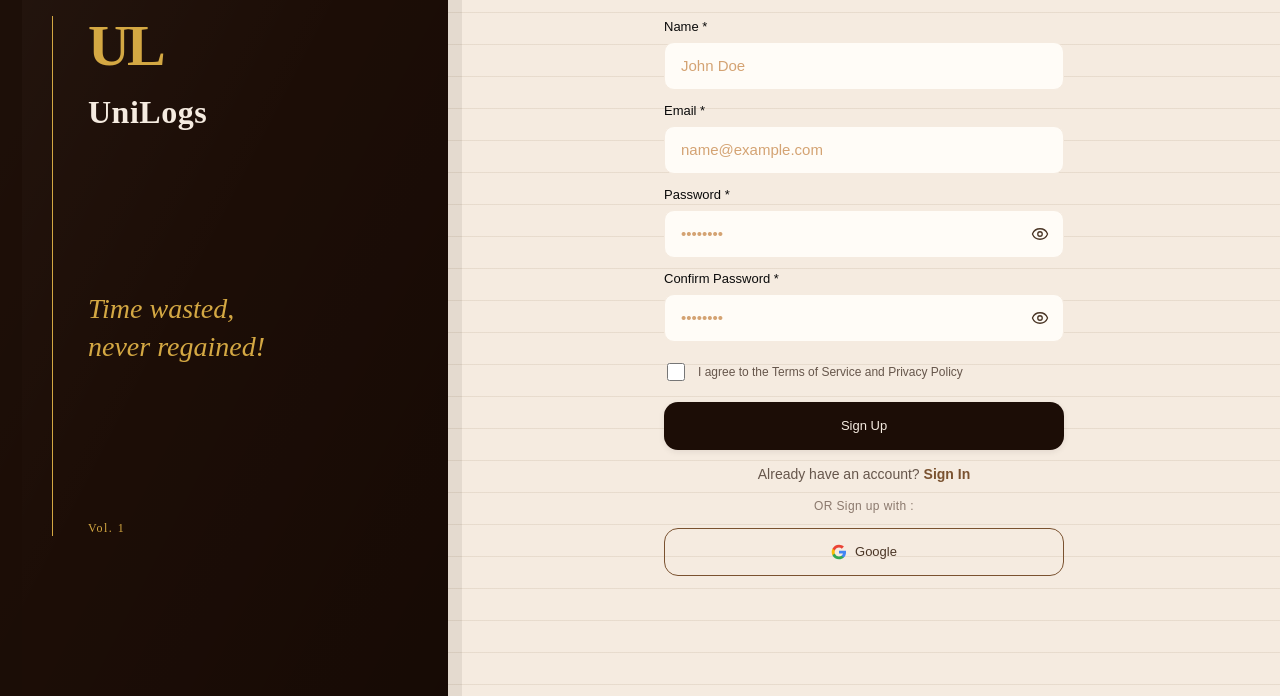
Test: SignupPage Google sign-up › shows an error if starting the OAuth flow fails
The width and height of the screenshot is (1280, 696).
(page scrolled)
Click the button "Google" at (864, 552), box x1=664 y1=528 x2=1064 y2=576
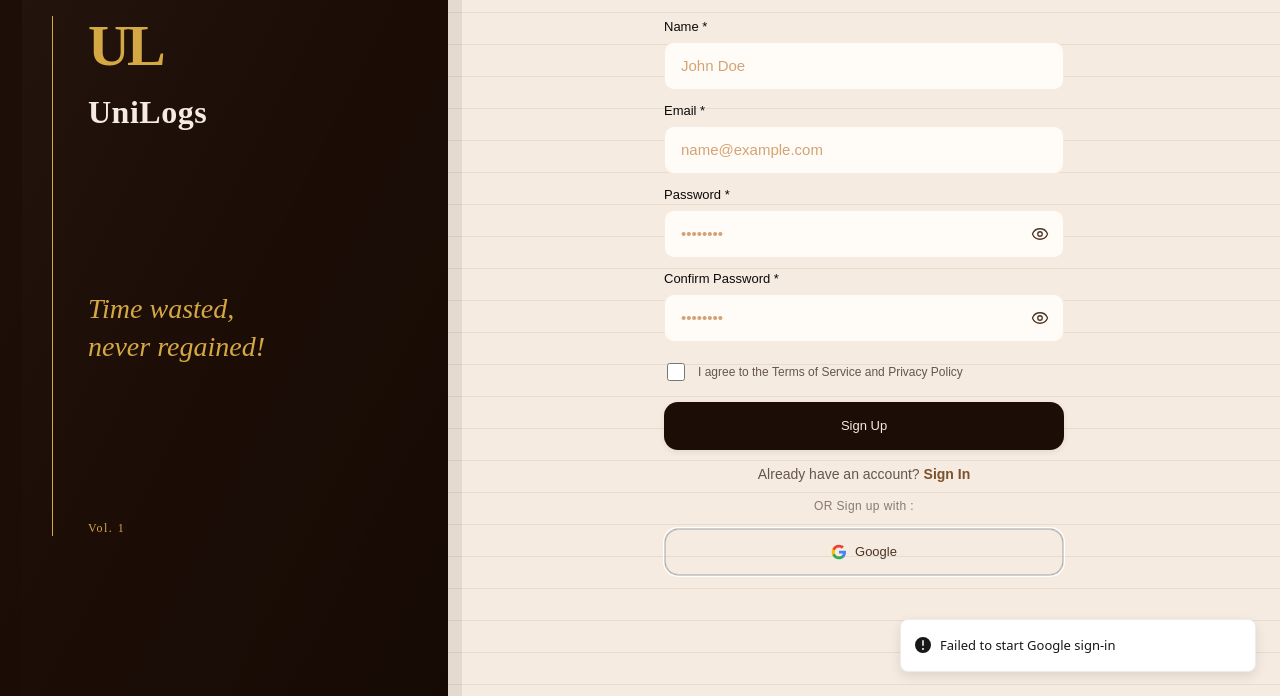
Now the text "Failed to start Google sign-in" is shown, box x1=940 y1=636 x2=1116 y2=655
